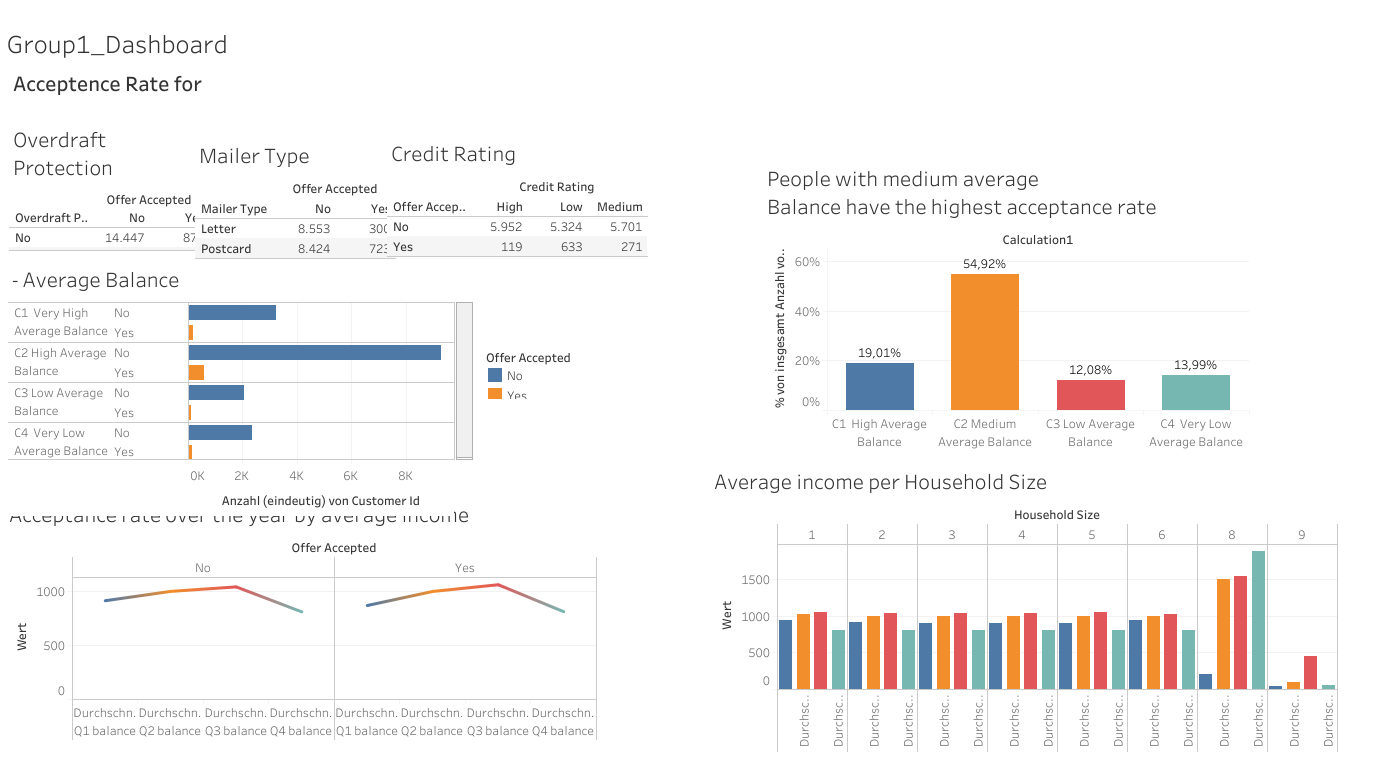

Layout of this report page (visuals, bound fields, positions):
{"tool":"tableau","page":{"name":"Group1_Dashboard","canvas":[1000,1000],"units":"permille","ordinal":0},"visuals":[{"type":"worksheet","box":[0,0,1000,1000]},{"type":"worksheet","param":"horz","box":[0,0,1000,1000]},{"type":"worksheet","param":"horz","box":[0,0,1000,1000]},{"type":"worksheet","param":"vert","box":[0,0,1000,1000]},{"type":"worksheet","box":[0,0,1000,101.5]},{"type":"worksheet","title":"Overdraft protec","mark":"Automatic","rows":["overdraft_protection"],"cols":["offer_accepted"],"box":[6.6,81.5,366.2,242]},{"type":"worksheet","box":[0,101.5,1000,898.5]},{"type":"worksheet","box":[0,101.5,1000,898.5]},{"type":"worksheet","title":"Credit Rating","mark":"Automatic","rows":["offer_accepted"],"cols":["credit_rating"],"box":[276.8,171.2,215.9,216.1]},{"type":"worksheet","title":"Mailer Type","mark":"Automatic","rows":["mailer_type"],"cols":["offer_accepted"],"box":[139.7,173.6,153.6,210.2]},{"type":"worksheet","title":"Acceptace by Balancegroup","mark":"Automatic","rows":["offer_accepted"],"cols":["Calculation_1078541752034517000"],"box":[545.7,203.1,347.7,375.4]},{"type":"worksheet","title":"Balance Groups","mark":"Automatic","rows":["Calculation_1078541752028803079","offer_accepted"],"cols":["customer_id"],"box":[6,332.9,332.4,332.9]},{"type":"worksheet","title":"Balance Groups","mark":"Automatic","rows":["Calculation_1078541752028803079","offer_accepted"],"cols":["customer_id"],"param":"[federated.04ahmwd06h821u19usavf1nmjei9].[none:offer_accepted:nk]","box":[347,445.1,97.4,68.5]},{"type":"worksheet","title":"Balance per Houlhold","mark":"Automatic","cols":["household_size"],"box":[507.9,592.7,449,376.6]},{"type":"worksheet","title":"Acceptance over the year ","mark":"Line","cols":["offer_accepted"],"box":[3.3,636.4,423.8,316.4]}]}

Visuals, with their boxes on the dashboard's canvas, which has no fixed pixel size, in thousandths of its width and height (x1, y1, x2, y2). These are canvas units, not pixel positions in the 1397x776 screenshot, which may show the page scaled, cropped or inside an application window:
worksheet: (x1=0, y1=0, x2=1000, y2=1000)
worksheet: (x1=0, y1=0, x2=1000, y2=1000)
worksheet: (x1=0, y1=0, x2=1000, y2=1000)
worksheet: (x1=0, y1=0, x2=1000, y2=1000)
worksheet: (x1=0, y1=0, x2=1000, y2=102)
"Overdraft protec" worksheet: (x1=7, y1=82, x2=373, y2=324)
worksheet: (x1=0, y1=102, x2=1000, y2=1000)
worksheet: (x1=0, y1=102, x2=1000, y2=1000)
"Credit Rating" worksheet: (x1=277, y1=171, x2=493, y2=387)
"Mailer Type" worksheet: (x1=140, y1=174, x2=293, y2=384)
"Acceptace by Balancegroup" worksheet: (x1=546, y1=203, x2=893, y2=578)
"Balance Groups" worksheet: (x1=6, y1=333, x2=338, y2=666)
"Balance Groups" worksheet: (x1=347, y1=445, x2=444, y2=514)
"Balance per Houlhold" worksheet: (x1=508, y1=593, x2=957, y2=969)
"Acceptance over the year " worksheet (Line marks): (x1=3, y1=636, x2=427, y2=953)
